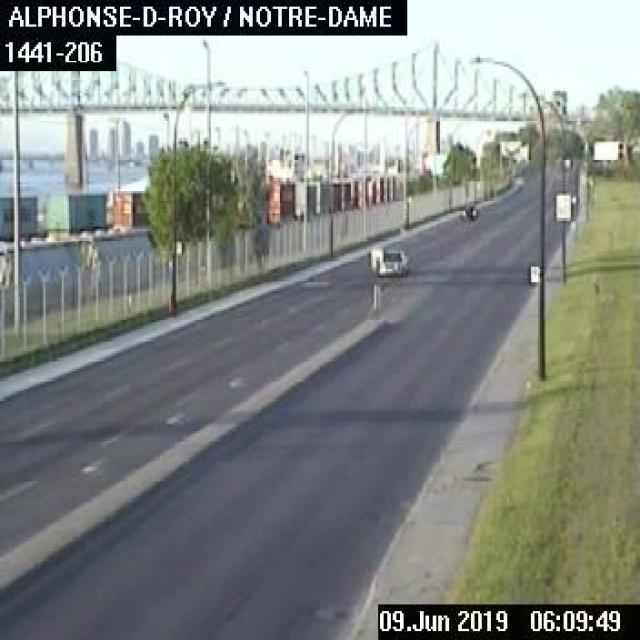vehicle: (378, 247, 407, 276), (462, 200, 478, 216)
